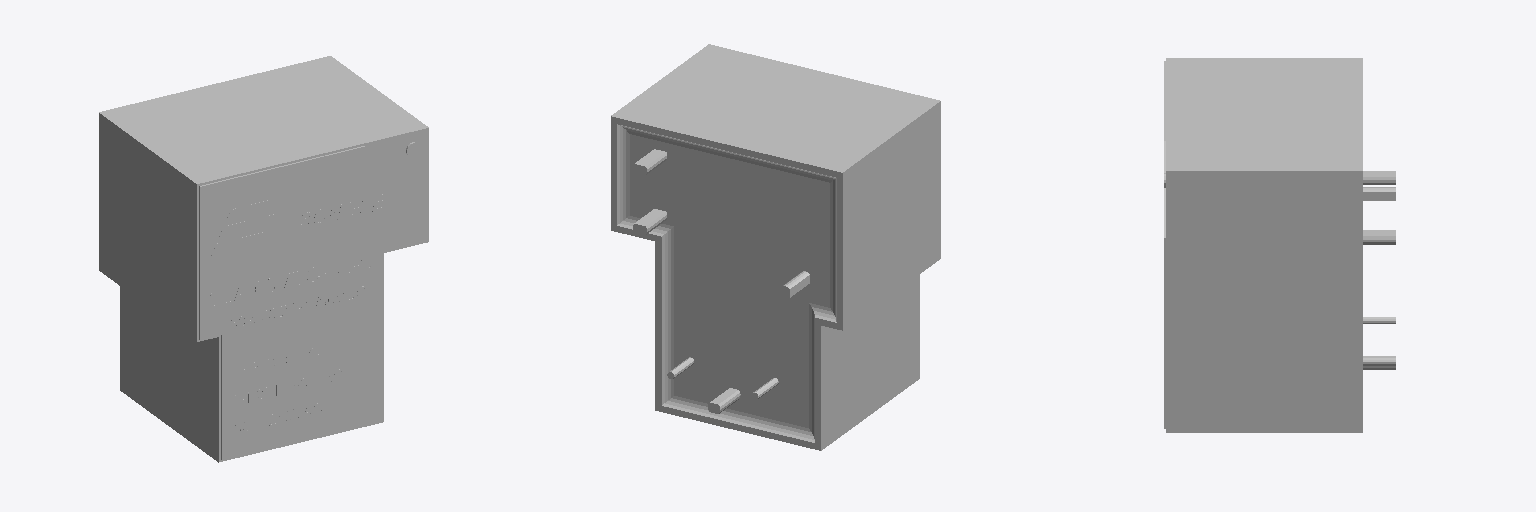
File: Relay - SLA-05VDC-SL-C.obj
3 renders of one model, left to right at view 1: azimuth 30°, elevation 25°; view 2: azimuth 150°, elevation 25°; view 3: azimuth 270°, elevation 25°, orthographic.
Visible parts, largest first — view 1: Solid1; view 2: Solid1; view 3: Solid1.
Boxes of the visible parts, x1=… form: Solid1: x1=99, y1=56, x2=428, y2=462; Solid1: x1=611, y1=44, x2=940, y2=450; Solid1: x1=1164, y1=58, x2=1395, y2=432.
Size of the model in its own units: 27.08 by 31.6 by 23.52.